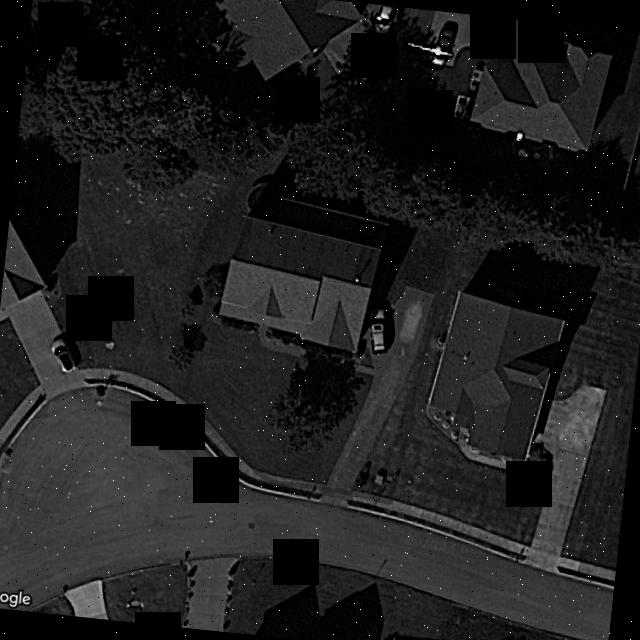Driveway: (325, 287, 431, 490)
Extra Driveway: (319, 490, 348, 506), (593, 570, 615, 586)
Extra Lawn: (178, 409, 323, 500), (182, 391, 245, 462), (346, 499, 389, 515)
Extra Sidewalk: (180, 401, 325, 493), (348, 490, 390, 509)
House: (218, 214, 382, 352)
Other: (244, 181, 386, 244)
Sidewalk: (258, 327, 353, 371)
